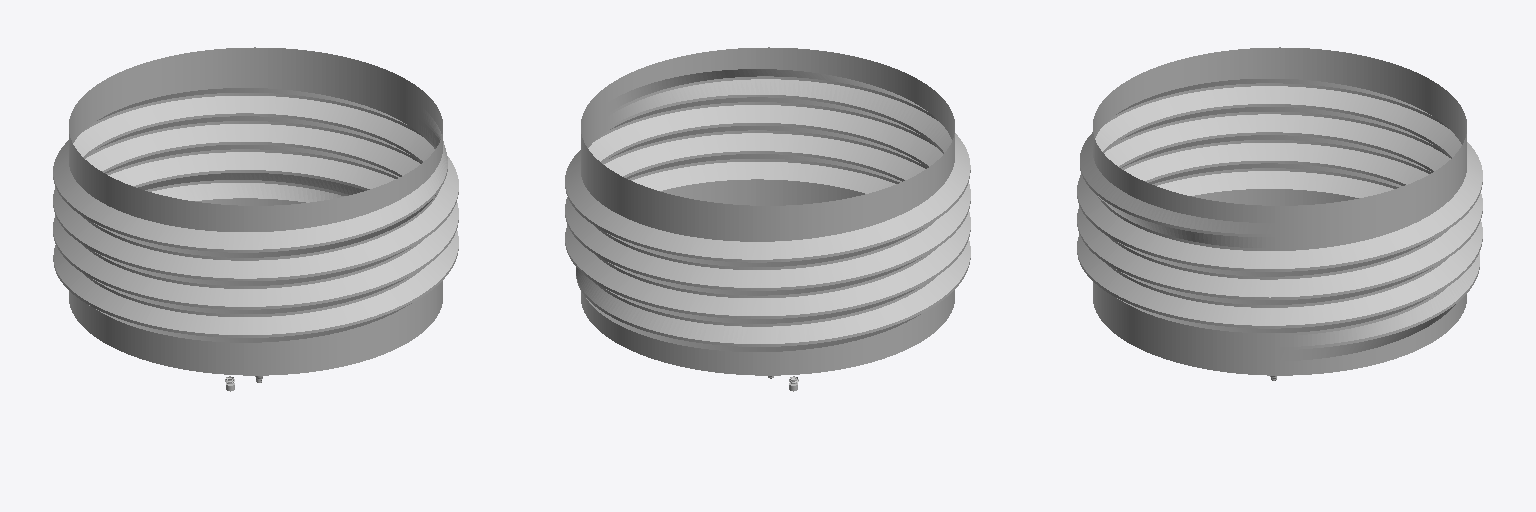
Rendered from light_bulb.obj.
3 renders of one model, left to right at view 1: azimuth 30°, elevation 25°; view 2: azimuth 150°, elevation 25°; view 3: azimuth 270°, elevation 25°, orthographic.
Visible parts, largest first — view 1: Thread_ThreadMesh.005; view 2: Thread_ThreadMesh.005; view 3: Thread_ThreadMesh.005.
Part boxes in pixels (x1,y1,x2,y2): Thread_ThreadMesh.005: (53,47,458,375); Thread_ThreadMesh.005: (565,47,970,375); Thread_ThreadMesh.005: (1077,47,1482,375).
Bounding box in the file's own units: 65 × 45.69 × 65.